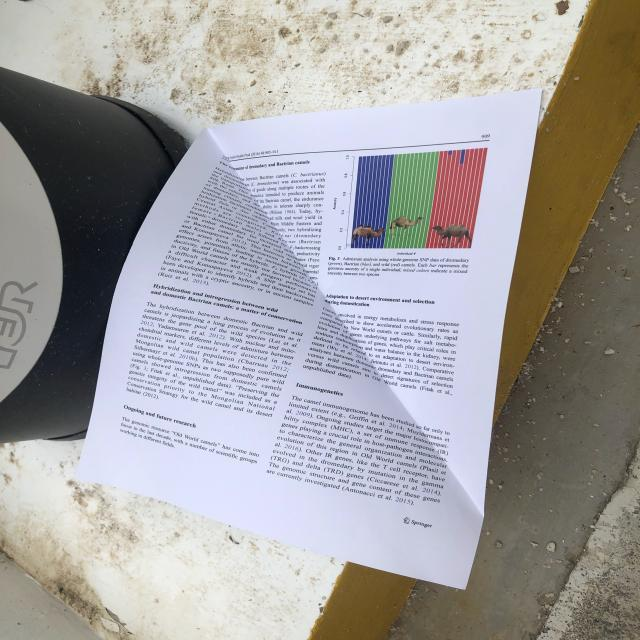kertas: (69, 14, 569, 590)
